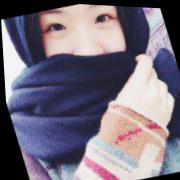WRONG: (30, 2, 142, 111)
